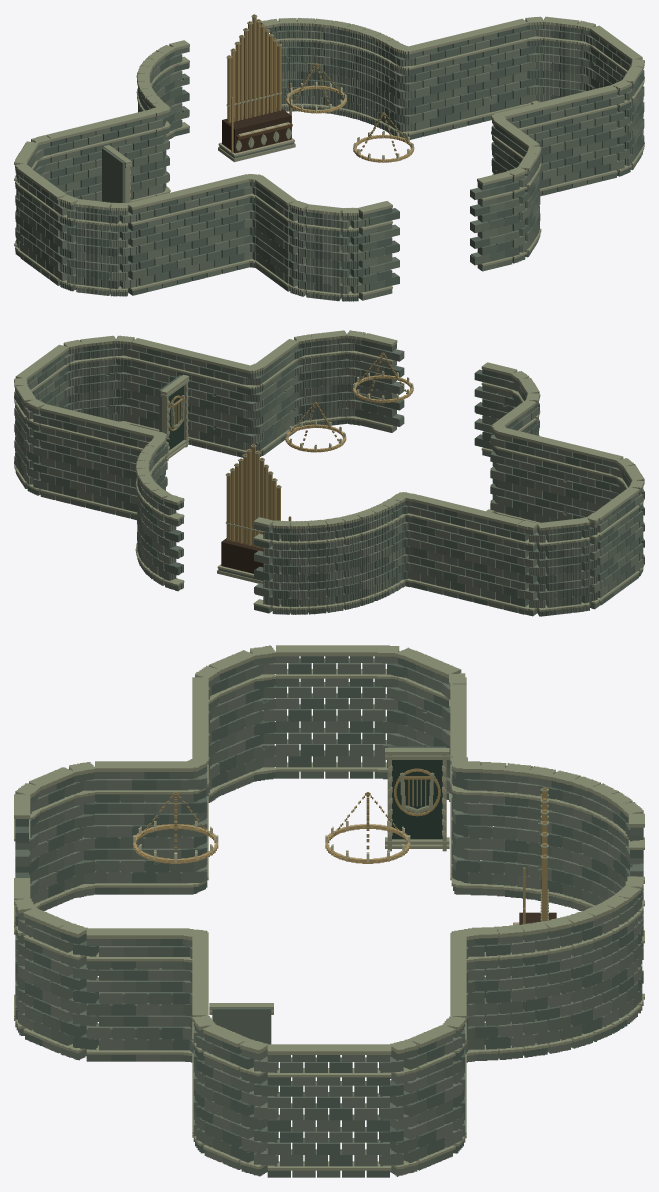
3 renders of one model, top to bottom at view 1: azimuth 30°, elevation 25°; view 2: azimuth 150°, elevation 25°; view 3: azimuth 270°, elevation 25°, orthographic. The views are drawn at different scales.
Parts seen in each view (by area): view 1: CarvedMasonry_-4_0_00, CarvedMasonry_-3_0_00, CarvedMasonry_2_0_00, CarvedMasonry_2_-1_00, CarvedPipeOrgan_00, CarvedMasonry_1_-2_00, CarvedMasonry_-2_1_00, CarvedMasonry_1_-1_00, CarvedMasonry_3_-1_00, CarvedMasonry_0_2_00, CarvedMasonry_-3_-1_00, CarvedMasonry_-2_0_00 (+14 smaller); view 2: CarvedMasonry_-3_-1_00, CarvedMasonry_-4_-1_00, CarvedMasonry_2_-1_00, CarvedMasonry_-2_-2_00, CarvedMasonry_2_0_00, CarvedMasonry_-3_0_00, CarvedMasonry_3_0_00, CarvedMasonry_1_1_00, CarvedMasonry_1_0_00, CarvedMasonry_-1_-3_00, CarvedPipeOrgan_00, CarvedMasonry_0_2_00 (+15 smaller); view 3: CarvedMasonry_1_-2_00, CarvedMasonry_3_0_00, CarvedMasonry_1_1_00, CarvedMasonry_-2_-2_00, CarvedMasonry_-2_1_00, CarvedMasonry_-4_0_00, CarvedMasonry_3_-1_00, CarvedMasonry_-4_-1_00, Heraldry_11_01, CarvedMasonry_0_-3_00, CarvedMasonry_1_2_00, CarvedMasonry_-2_2_00 (+16 smaller).
Boxes of the visible parts, x1,y1,x2,y2 form: CarvedMasonry_-4_0_00: (37, 182, 128, 296); CarvedMasonry_-3_0_00: (120, 185, 214, 295); CarvedMasonry_2_0_00: (538, 80, 631, 195); CarvedMasonry_2_-1_00: (448, 16, 544, 129); CarvedPipeOrgan_00: (218, 14, 295, 162); CarvedMasonry_1_-2_00: (313, 18, 403, 135); CarvedMasonry_-2_1_00: (253, 175, 325, 299); CarvedMasonry_1_-1_00: (394, 37, 460, 139); CarvedMasonry_3_-1_00: (535, 16, 616, 101); CarvedMasonry_0_2_00: (470, 167, 527, 271); CarvedMasonry_-3_-1_00: (31, 117, 125, 201); CarvedMasonry_-2_0_00: (202, 174, 261, 277); CarvedMasonry_-3_-1_00: (443, 502, 537, 616); CarvedMasonry_-4_-1_00: (529, 499, 622, 616); CarvedMasonry_2_-1_00: (26, 398, 119, 514); CarvedMasonry_-2_-2_00: (317, 492, 408, 612); CarvedMasonry_2_0_00: (115, 335, 210, 448); CarvedMasonry_-3_0_00: (535, 438, 623, 522); CarvedMasonry_3_0_00: (33, 335, 124, 421); CarvedMasonry_1_1_00: (255, 334, 322, 454); CarvedMasonry_1_0_00: (199, 356, 264, 457); CarvedMasonry_-1_-3_00: (253, 517, 317, 614); CarvedPipeOrgan_00: (217, 444, 291, 583); CarvedMasonry_0_2_00: (346, 330, 404, 432); CarvedMasonry_1_-2_00: (467, 903, 613, 1060); CarvedMasonry_3_0_00: (196, 1024, 341, 1177); CarvedMasonry_1_1_00: (51, 922, 191, 1061); CarvedMasonry_-2_-2_00: (455, 761, 600, 911); CarvedMasonry_-2_1_00: (47, 761, 193, 905); CarvedMasonry_-4_0_00: (195, 645, 336, 802); CarvedMasonry_3_-1_00: (329, 1025, 462, 1177); CarvedMasonry_-4_-1_00: (325, 645, 461, 799); Heraldry_11_01: (385, 746, 449, 851); CarvedMasonry_0_-3_00: (601, 876, 644, 1033); CarvedMasonry_1_2_00: (18, 907, 69, 1053); CarvedMasonry_-2_2_00: (15, 774, 64, 910).
Size of the model in its own units: 42 by 9.12 by 27.6.
